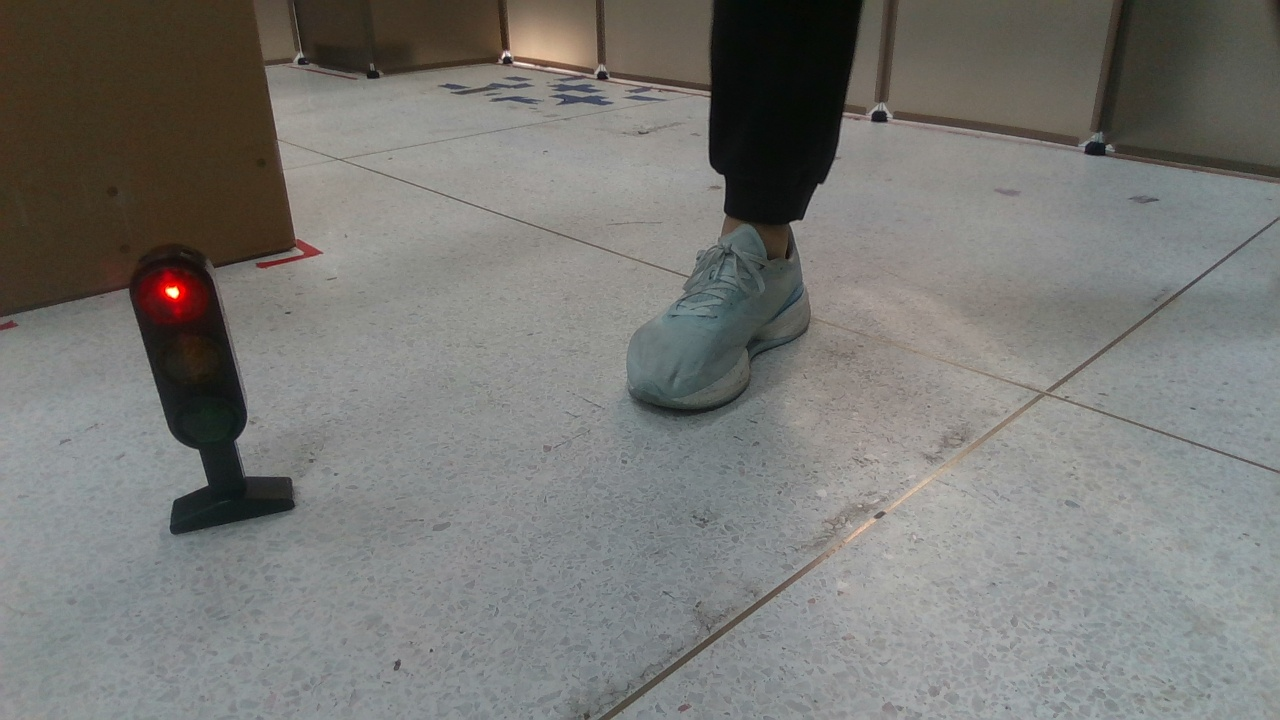Red traffic light: (124, 249, 303, 533)
